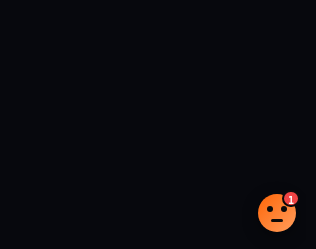
Scenario: Robot Fix List — FE1/FE2/FE3/F3 › FE1 — a late response for the OLD project never overwrites the new project's list
Click the button with test id "ora-guide-mascot-avatar": [277, 213] box [258,194,296,232]
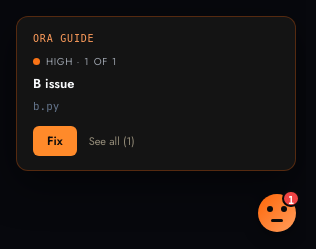
Expected: the text with test id "ora-guide-fixlist-title" reads "B issue", [33,74,74,93]
